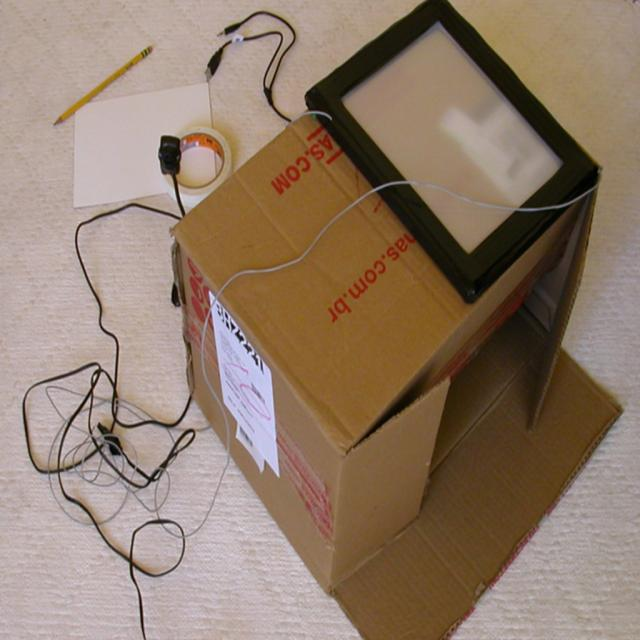Box: (174, 23, 624, 639)
